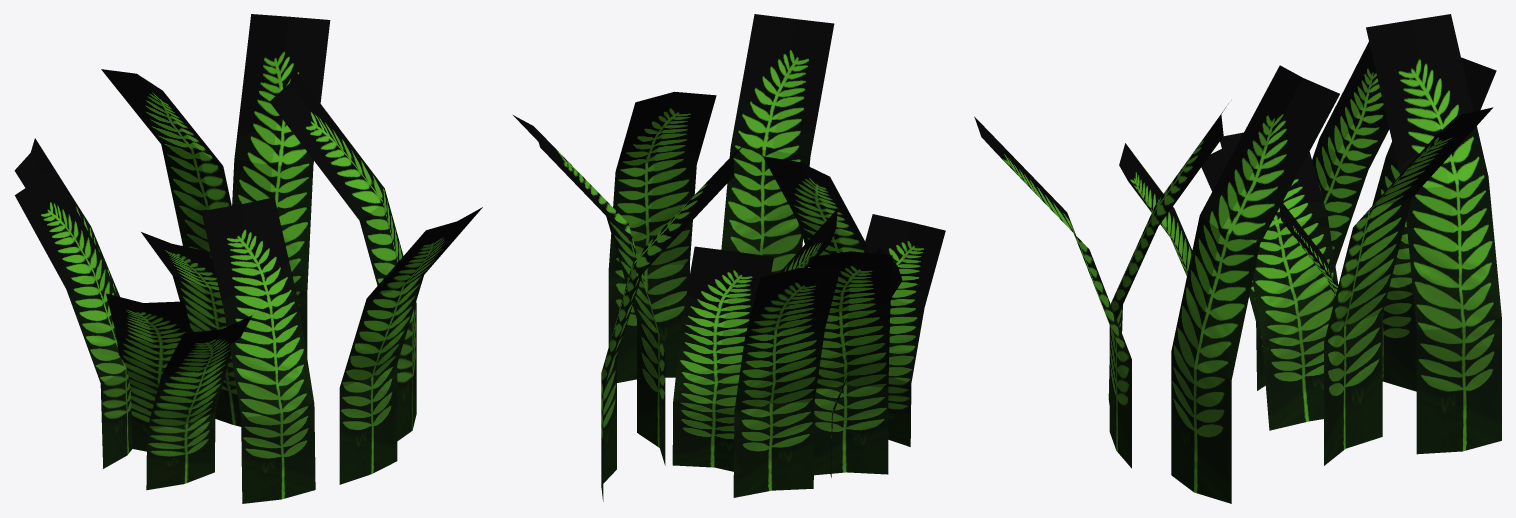
Rendered from FernMedium1.fbx.
3 views of the same model, side by side, from view 1: azimuth 30°, elevation 25°; view 2: azimuth 150°, elevation 25°; view 3: azimuth 270°, elevation 25° (orthographic). The views are drawn at different scales.
Parts seen in each view (by area): view 1: Plane.001; view 2: Plane.001; view 3: Plane.001.
Part boxes in pixels (x1,y1,x2,y2): Plane.001: (14,14,482,503); Plane.001: (513,14,945,501); Plane.001: (974,14,1501,503).
Bounding box in the file's own units: 0.9827 × 0.9066 × 1.16.
